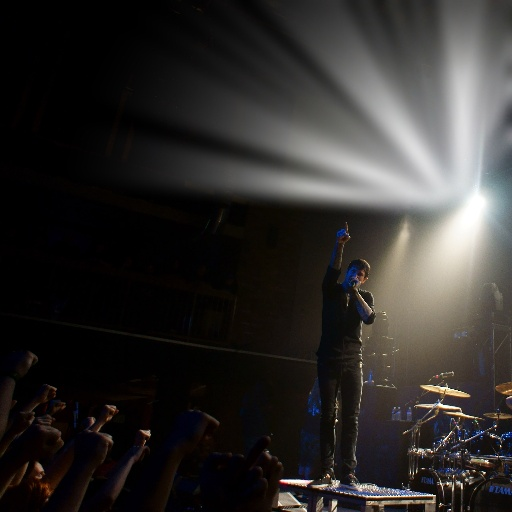hand: (17, 424, 67, 464), (181, 408, 221, 441), (85, 429, 115, 464), (3, 350, 41, 377), (132, 429, 153, 451), (12, 411, 35, 431), (334, 221, 353, 245), (38, 381, 60, 400), (101, 405, 121, 422), (349, 276, 363, 291), (53, 402, 68, 414)
